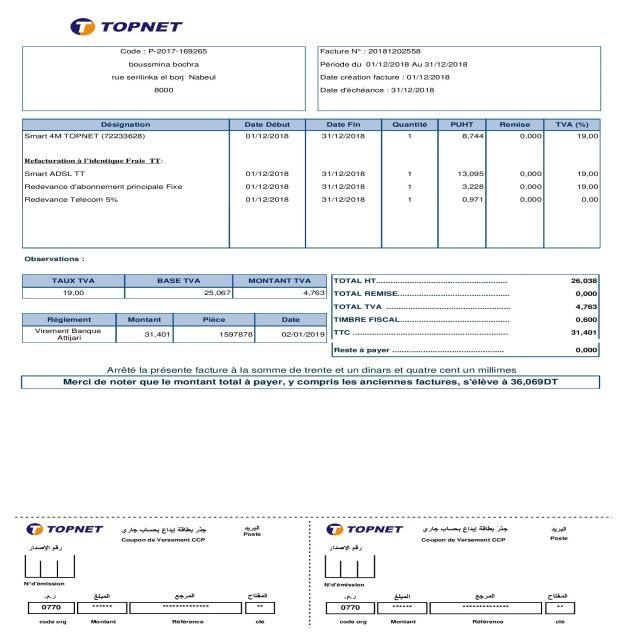customer_address: (106, 73, 225, 95)
customer_name: (127, 59, 204, 70)
due_date: (388, 83, 439, 97)
invoice_date: (404, 72, 456, 82)
invoice_number: (368, 44, 422, 58)
invoice_subtotal: (564, 273, 604, 286)
invoice_total: (566, 327, 603, 339)
item_description: (22, 131, 193, 213)
item_quantity: (394, 132, 424, 225)
item_unit_price: (446, 130, 484, 224)
supplier_name: (99, 15, 191, 40)
tax_amount: (570, 299, 604, 313)
